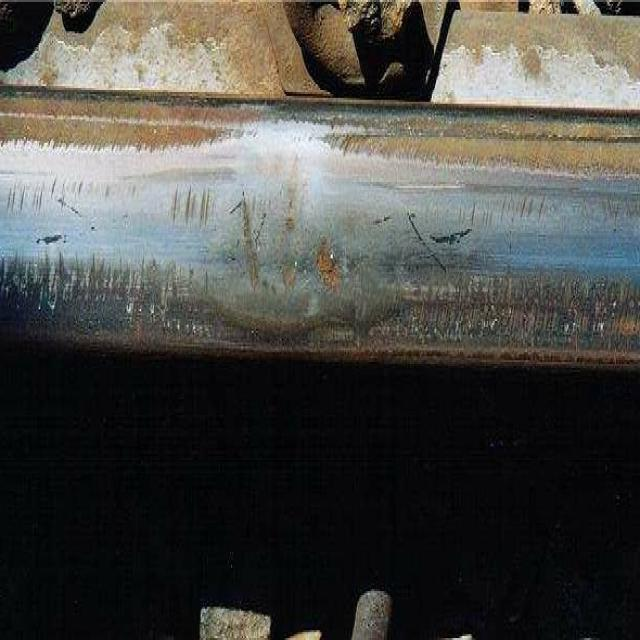head_checks_high: (166, 104, 399, 345)
